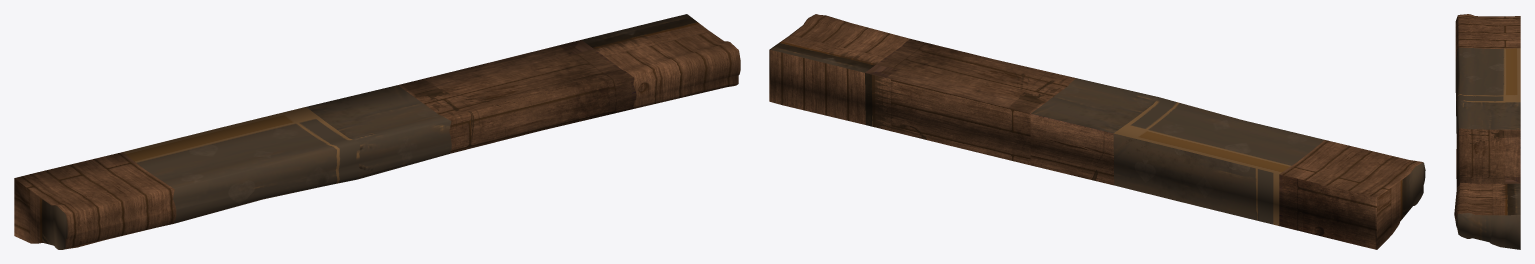
The model's file is Platforms floor 15m.fbx.
3 views of the same model, side by side, from view 1: azimuth 30°, elevation 25°; view 2: azimuth 150°, elevation 25°; view 3: azimuth 270°, elevation 25° (orthographic). The views are drawn at different scales.
Parts seen in each view (by area): view 1: LP++.003; view 2: LP++.003; view 3: LP++.003.
Boxes of the visible parts, <box> form: LP++.003: <box>14,14,740,249</box>; LP++.003: <box>769,14,1425,249</box>; LP++.003: <box>1454,14,1520,249</box>.
Bounding box in the file's own units: 1501 × 132 × 212.
